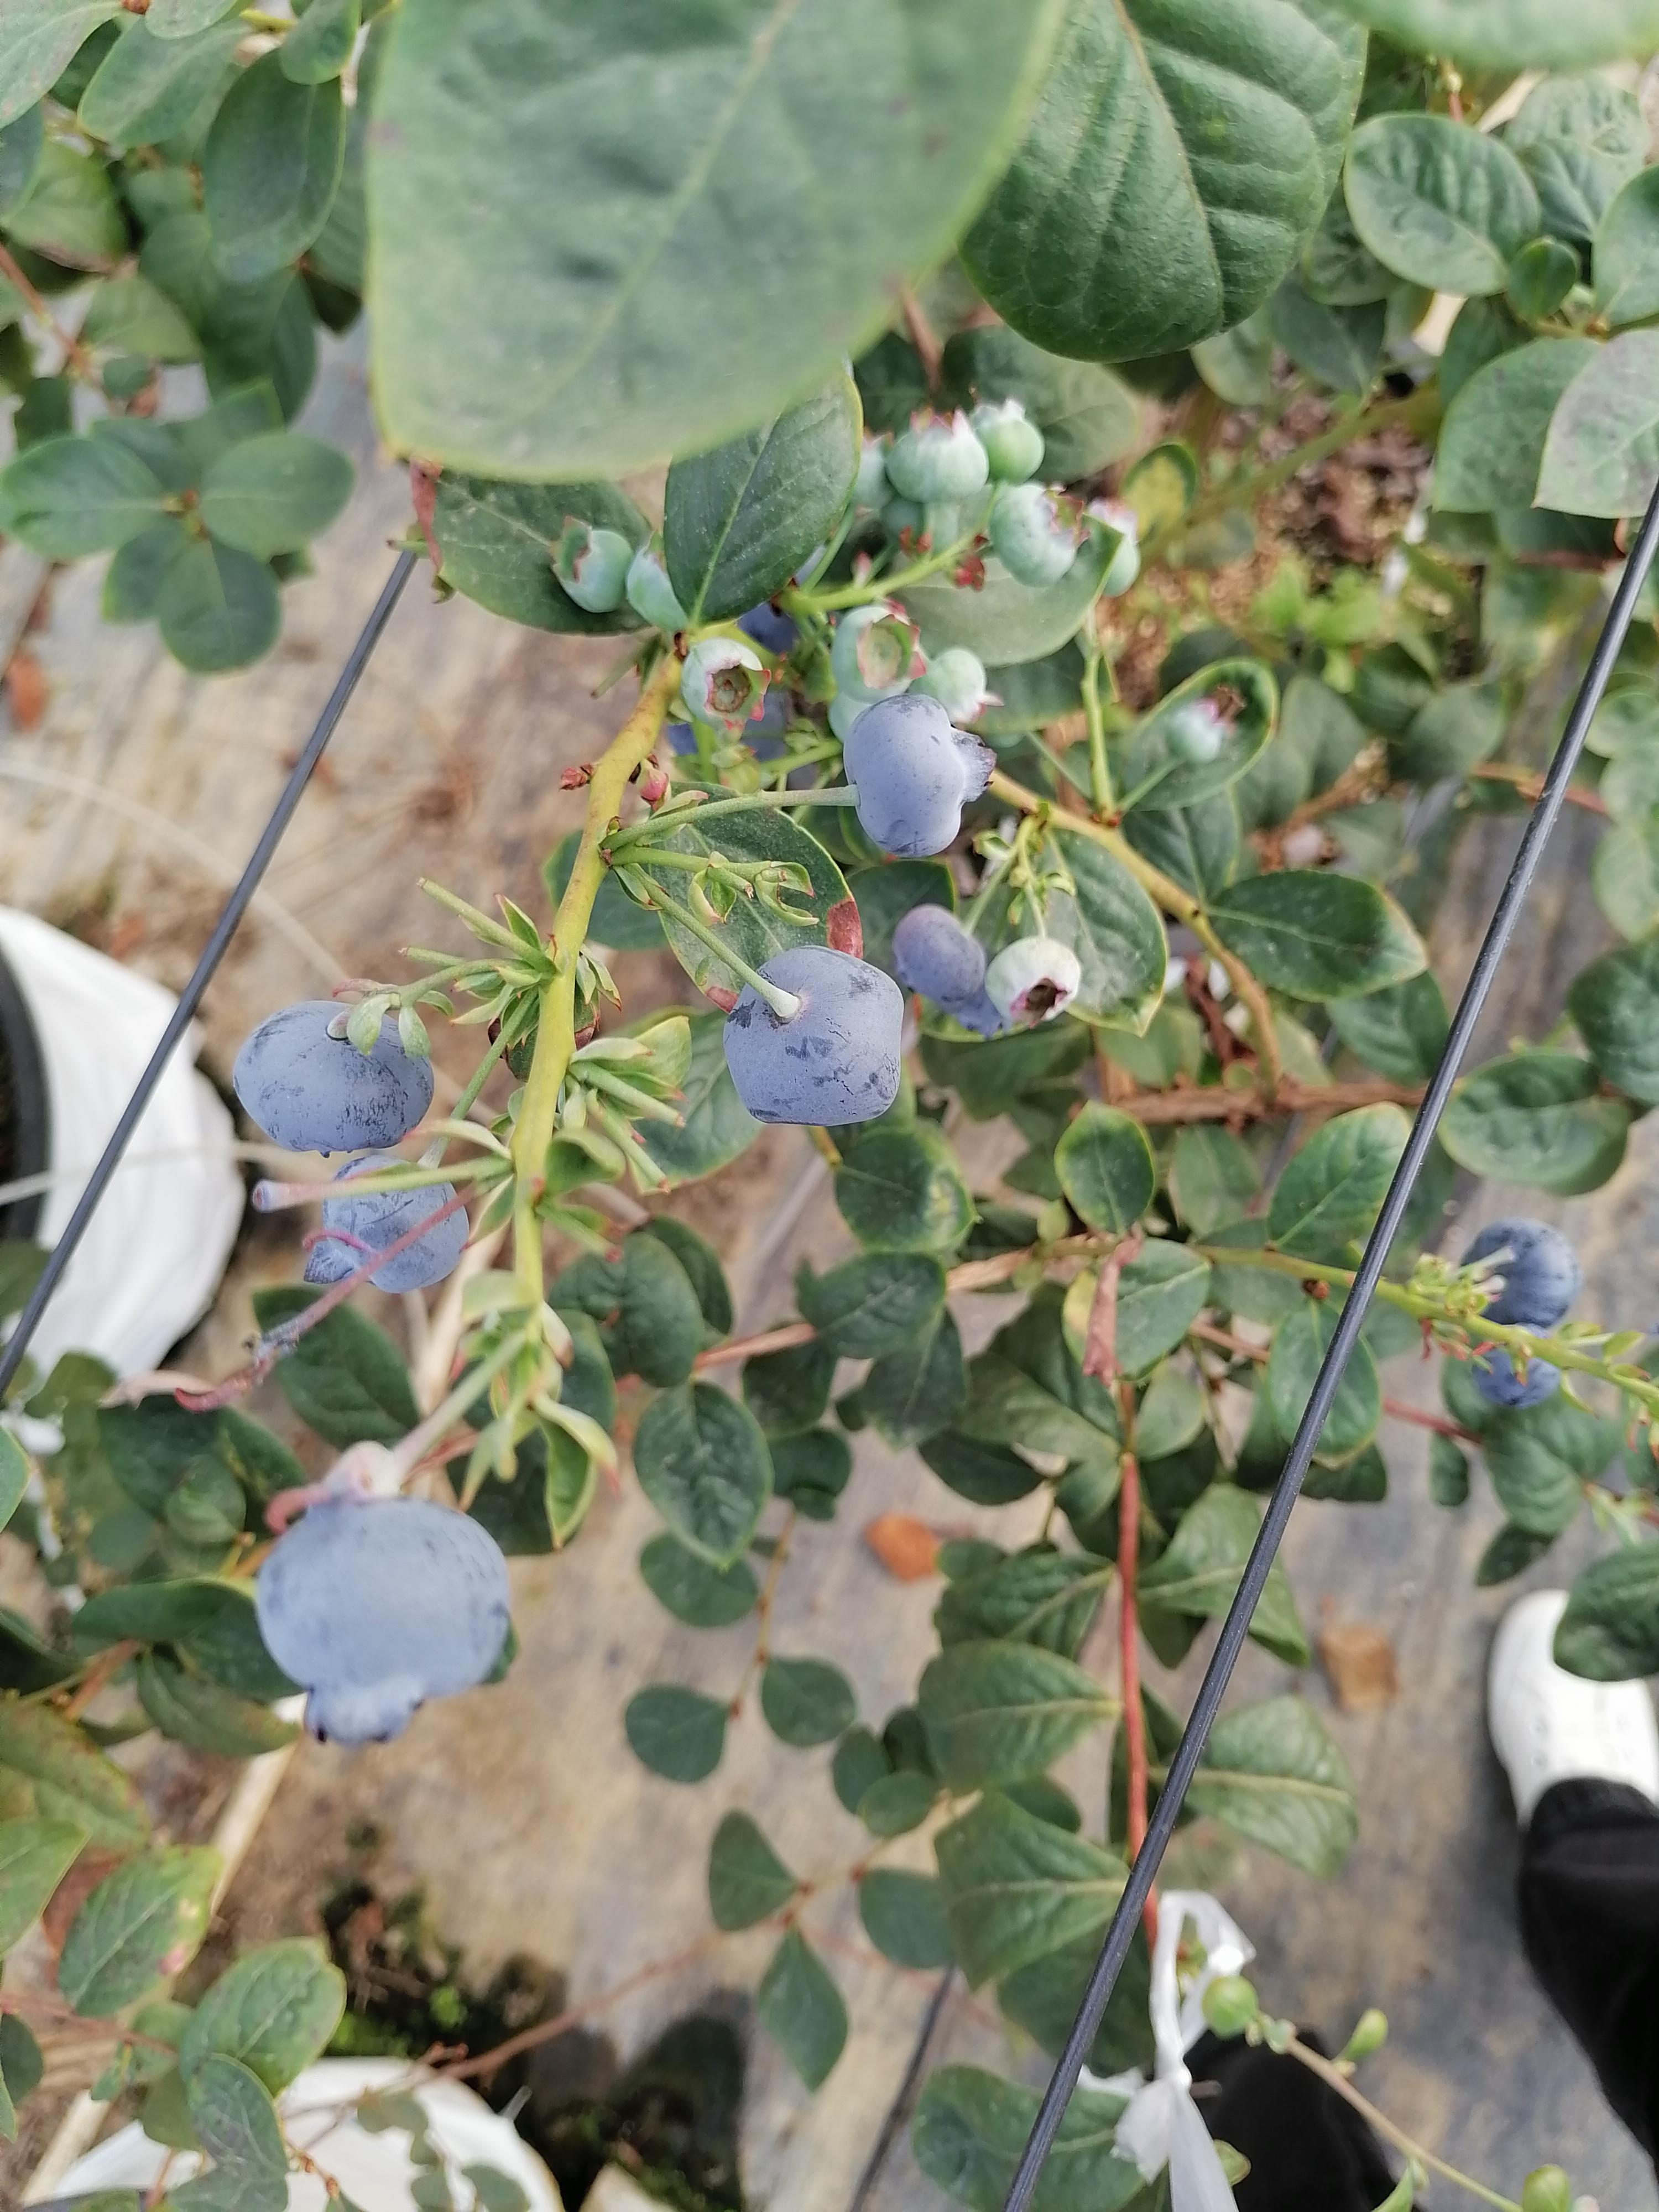ripe-blueberries: (254, 1496, 512, 1749), (723, 941, 904, 1129), (230, 1000, 437, 1157), (842, 691, 993, 864), (305, 1155, 471, 1294), (1462, 1216, 1584, 1327), (669, 686, 791, 770), (892, 902, 985, 1007), (1466, 1327, 1563, 1407), (737, 606, 791, 657), (955, 988, 1006, 1036)
